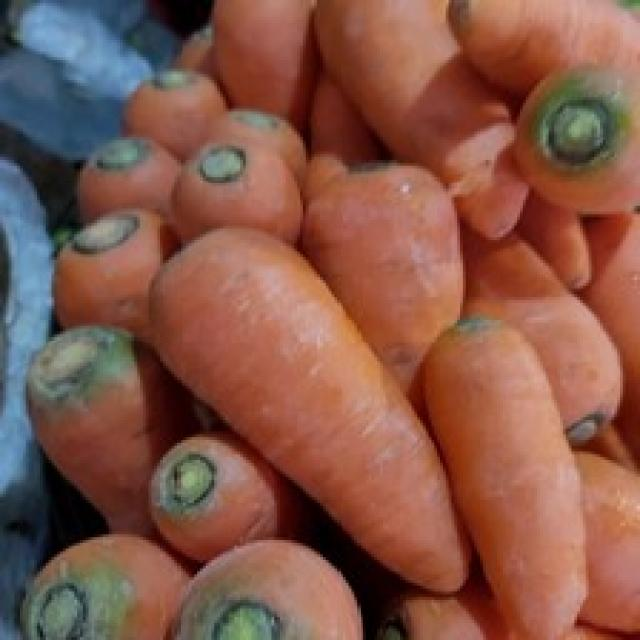Fresh_Carrot: (157, 240, 466, 601), (410, 312, 578, 640), (300, 154, 481, 397)
